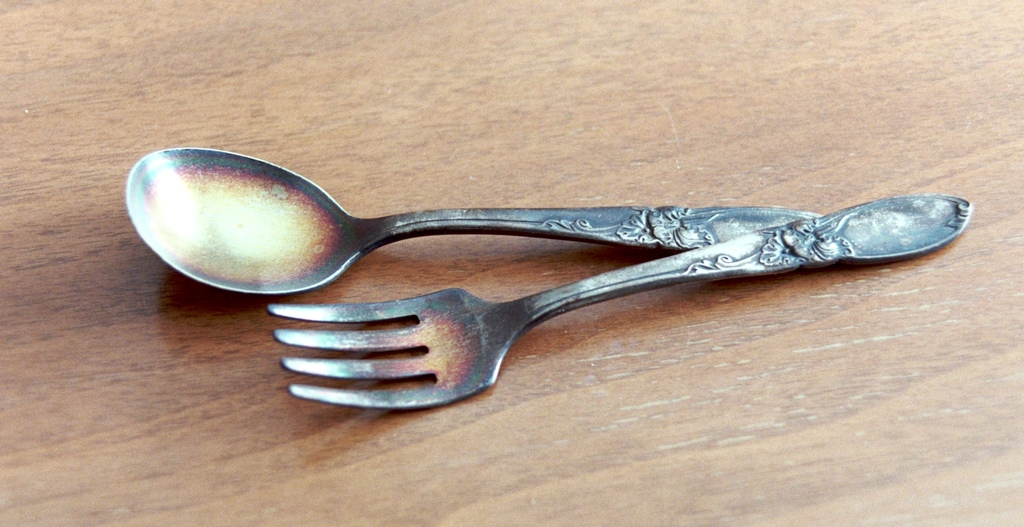fork: (265, 193, 973, 408)
